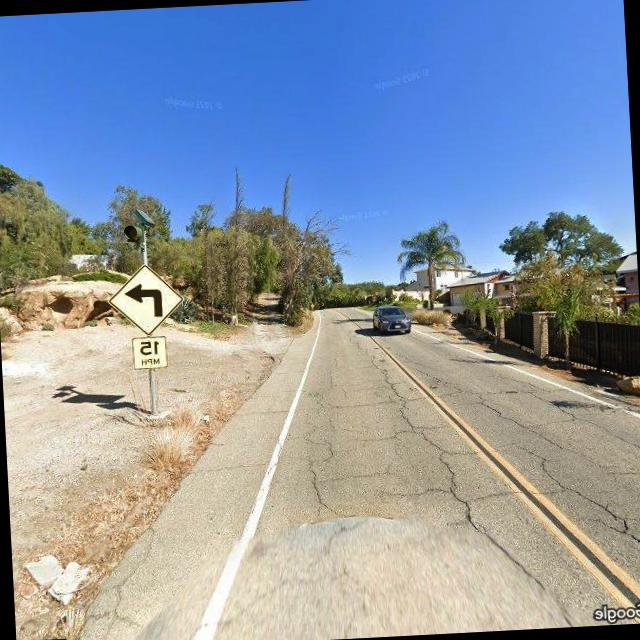crack: (289, 342, 640, 578), (192, 456, 277, 474)
